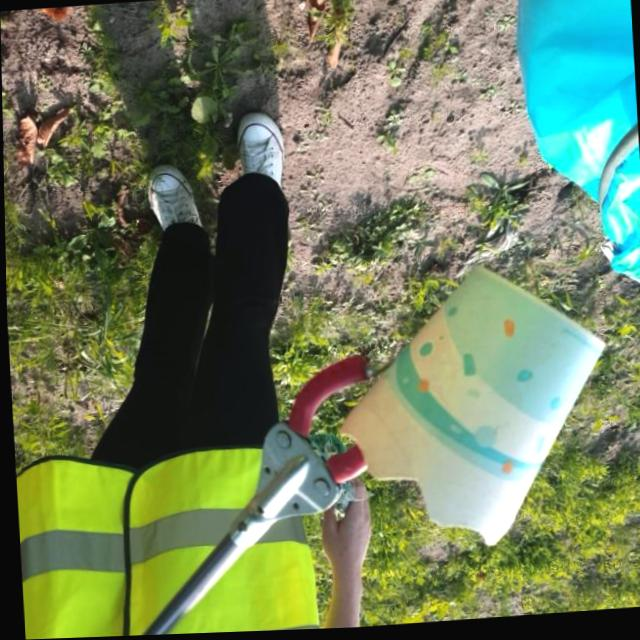Paper: (327, 257, 614, 562)
